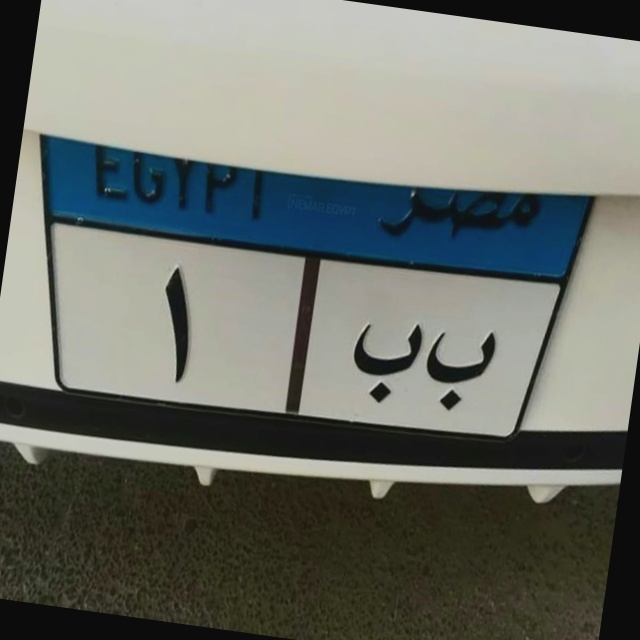License Plate: (0, 114, 599, 480)
